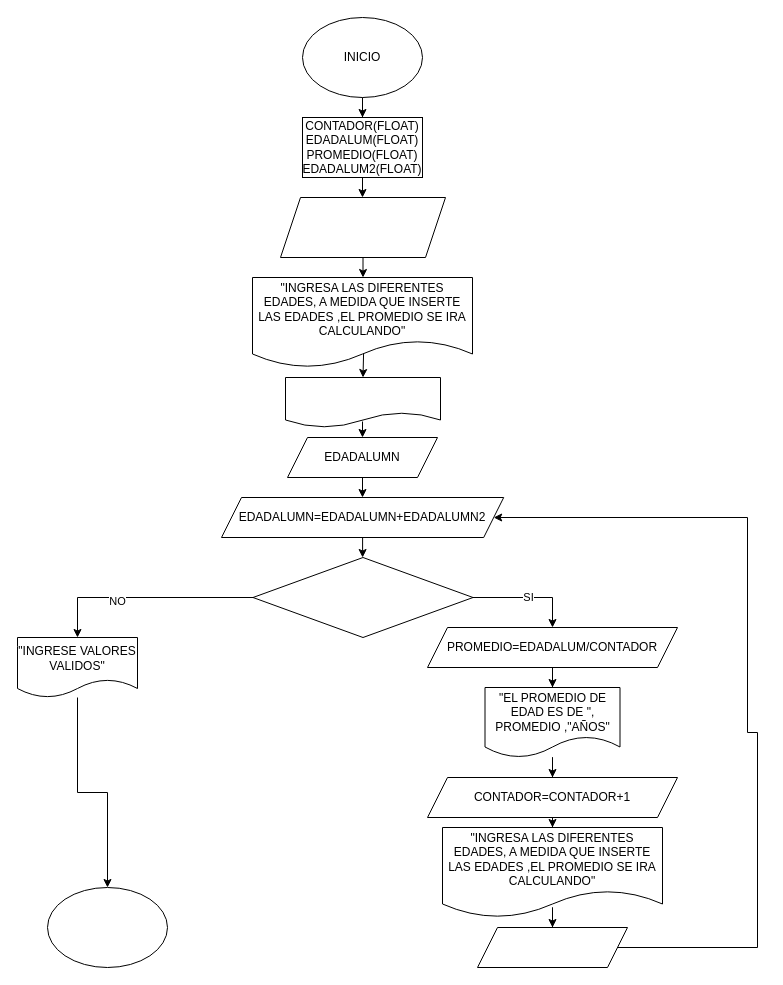
This 783x985 diagram has some shape labels left out. Each missing label, with the centre of its shape:
"INGRESA EDAD": point (362, 402)
CONTADOR=0 PROMEDIO=0 EDADALUM=0 EDADLUM2=0: point (363, 227)
EDADALUMN2: point (552, 947)
EDADALUMN>=0: point (362, 597)
FIN: point (107, 927)
